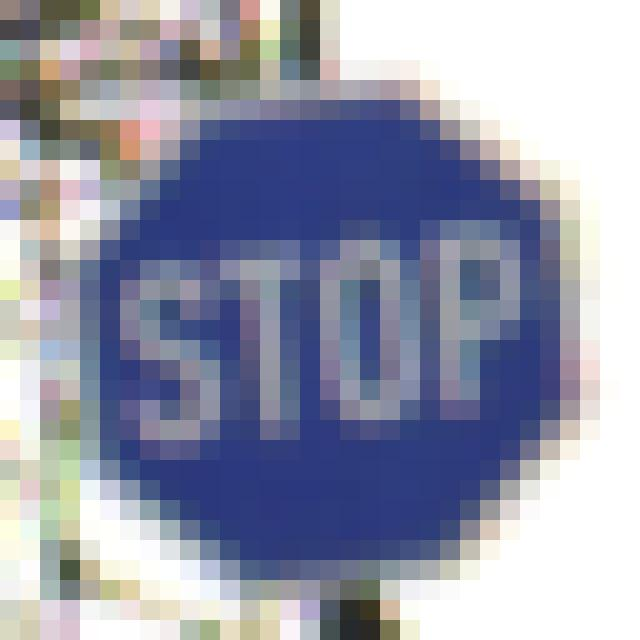STOP: (90, 96, 555, 575)
